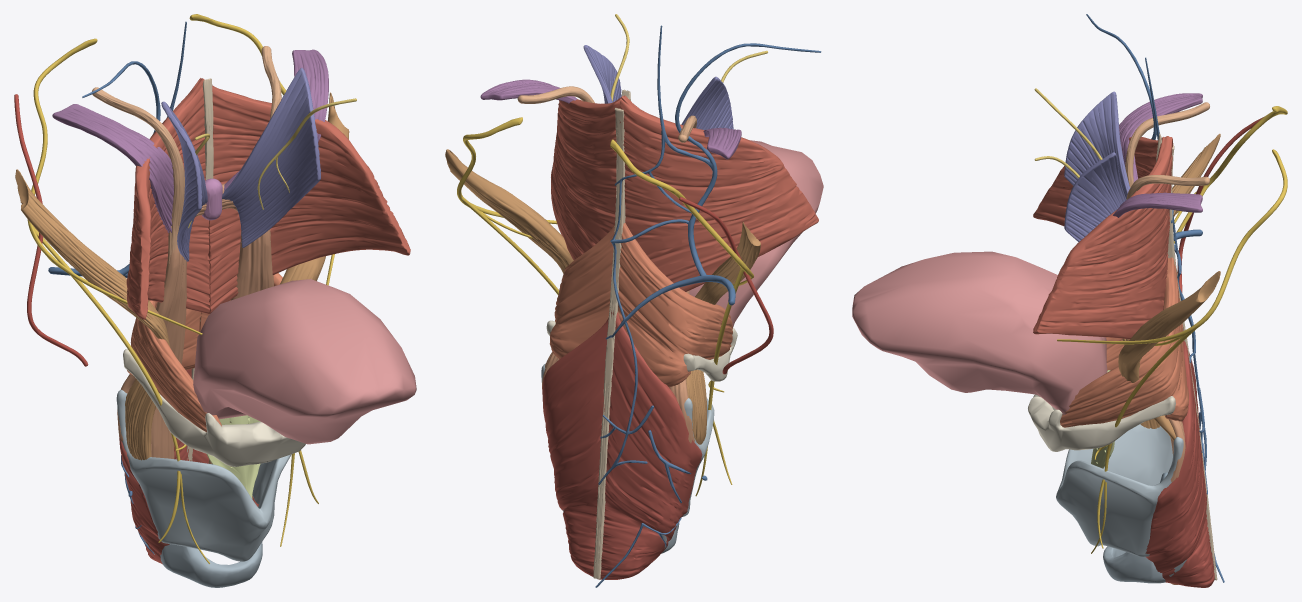
Rendered from pharynx-bp3d.glb.
The picture shows the model from 3 angles, left to right: view 1: azimuth 30°, elevation 25°; view 2: azimuth 150°, elevation 25°; view 3: azimuth 270°, elevation 25°; orthographic projection. The views are drawn at different scales.
Visible parts, largest first — view 1: tongue, superior-constrictor, thyroid-cartilage, tensor-veli-palatini, stylopharyngeus, levator-veli-palatini, palatopharyngeus, hyoid-bone, glossopharyngeal-nerves, middle-constrictor, salpingopharyngeus, cricoid-cartilage (+7 smaller); view 2: superior-constrictor, inferior-constrictor, middle-constrictor, stylopharyngeus, pharyngeal-venous-plexus, glossopharyngeal-nerves, pharyngeal-raphe, tongue, tensor-veli-palatini, levator-veli-palatini, ascending-pharyngeal-artery, salpingopharyngeus (+4 smaller); view 3: tongue, superior-constrictor, thyroid-cartilage, inferior-constrictor, middle-constrictor, tensor-veli-palatini, stylopharyngeus, glossopharyngeal-nerves, hyoid-bone, levator-veli-palatini, pharyngeal-venous-plexus, salpingopharyngeus (+3 smaller).
Boxes of the visible parts, left/top/right/bottom form: tongue: left=193, top=279, right=416, bottom=444; superior-constrictor: left=126, top=78, right=410, bottom=319; thyroid-cartilage: left=116, top=389, right=291, bottom=561; tensor-veli-palatini: left=161, top=68, right=320, bottom=261; stylopharyngeus: left=15, top=92, right=349, bottom=460; levator-veli-palatini: left=52, top=49, right=328, bottom=232; palatopharyngeus: left=117, top=183, right=273, bottom=564; hyoid-bone: left=123, top=349, right=305, bottom=466; glossopharyngeal-nerves: left=27, top=14, right=334, bottom=563; middle-constrictor: left=127, top=273, right=282, bottom=432; salpingopharyngeus: left=92, top=46, right=281, bottom=266; cricoid-cartilage: left=160, top=542, right=262, bottom=587; superior-constrictor: left=551, top=95, right=818, bottom=291; inferior-constrictor: left=542, top=310, right=702, bottom=579; middle-constrictor: left=549, top=223, right=732, bottom=387; stylopharyngeus: left=445, top=149, right=760, bottom=444; pharyngeal-venous-plexus: left=595, top=25, right=821, bottom=587; glossopharyngeal-nerves: left=457, top=117, right=753, bottom=496; pharyngeal-raphe: left=593, top=89, right=630, bottom=579; tongue: left=689, top=140, right=823, bottom=326; tensor-veli-palatini: left=583, top=45, right=733, bottom=130; levator-veli-palatini: left=480, top=79, right=741, bottom=159; ascending-pharyngeal-artery: left=679, top=197, right=773, bottom=374; salpingopharyngeus: left=517, top=86, right=696, bottom=142; tongue: left=852, top=251, right=1107, bottom=414; superior-constrictor: left=1033, top=136, right=1173, bottom=339; thyroid-cartilage: left=1056, top=424, right=1186, bottom=576; inferior-constrictor: left=1145, top=340, right=1214, bottom=587; middle-constrictor: left=1060, top=257, right=1188, bottom=427; tensor-veli-palatini: left=1064, top=91, right=1130, bottom=242; stylopharyngeus: left=1118, top=133, right=1220, bottom=441; glossopharyngeal-nerves: left=1057, top=106, right=1287, bottom=553; hyoid-bone: left=1028, top=394, right=1175, bottom=451; levator-veli-palatini: left=1113, top=93, right=1202, bottom=217; pharyngeal-venous-plexus: left=1086, top=14, right=1224, bottom=582; salpingopharyngeus: left=1125, top=102, right=1209, bottom=199.
Bounding box in the file's own units: 0.8035 × 1.32 × 1.01.
